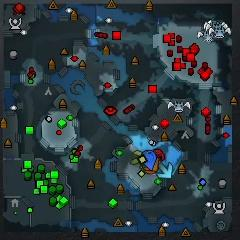p1: (142, 150, 156, 170)
p5: (142, 169, 157, 175)
x2: (131, 150, 143, 165)
x3: (159, 162, 174, 179)
x5: (144, 159, 161, 172)
